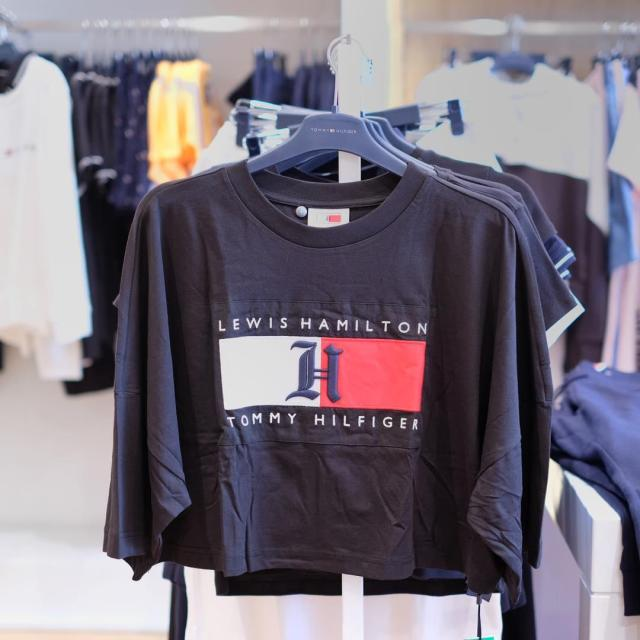Tshirt: (107, 153, 558, 589)
